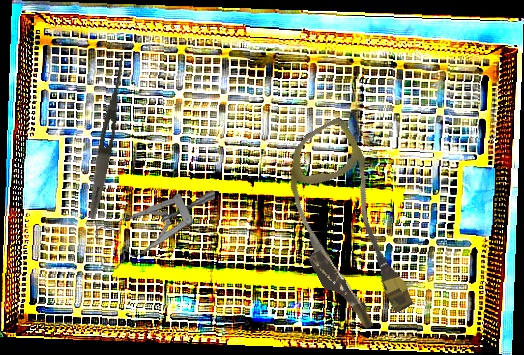Cannula: (256, 115, 436, 338)
Dressing Forceps: (85, 54, 129, 220)
Speculum: (92, 188, 220, 272)
